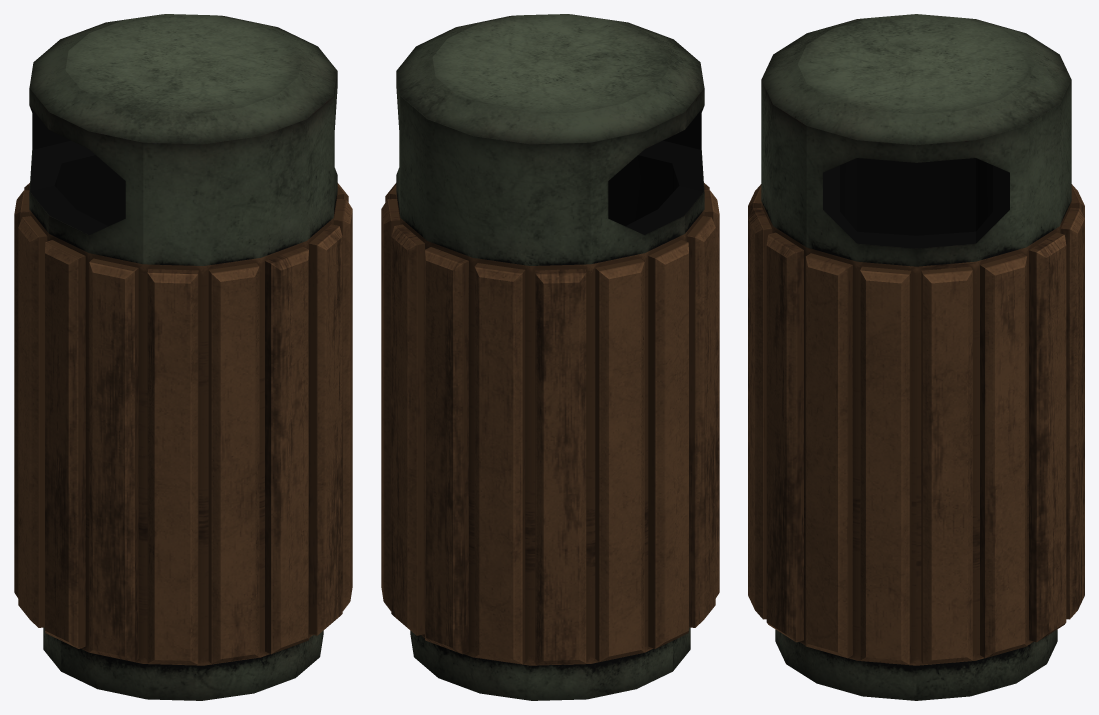
File: Poubelle.fbx
3 renders of one model, left to right at view 1: azimuth 30°, elevation 25°; view 2: azimuth 150°, elevation 25°; view 3: azimuth 270°, elevation 25°, orthographic.
Visible parts, largest first — view 1: Poubelle; view 2: Poubelle; view 3: Poubelle.
Part boxes in pixels (x1,y1,x2,y2): Poubelle: [14, 14, 352, 700]; Poubelle: [381, 14, 719, 700]; Poubelle: [748, 14, 1084, 700].
Size of the model in its own units: 54.67 by 103 by 54.67.
